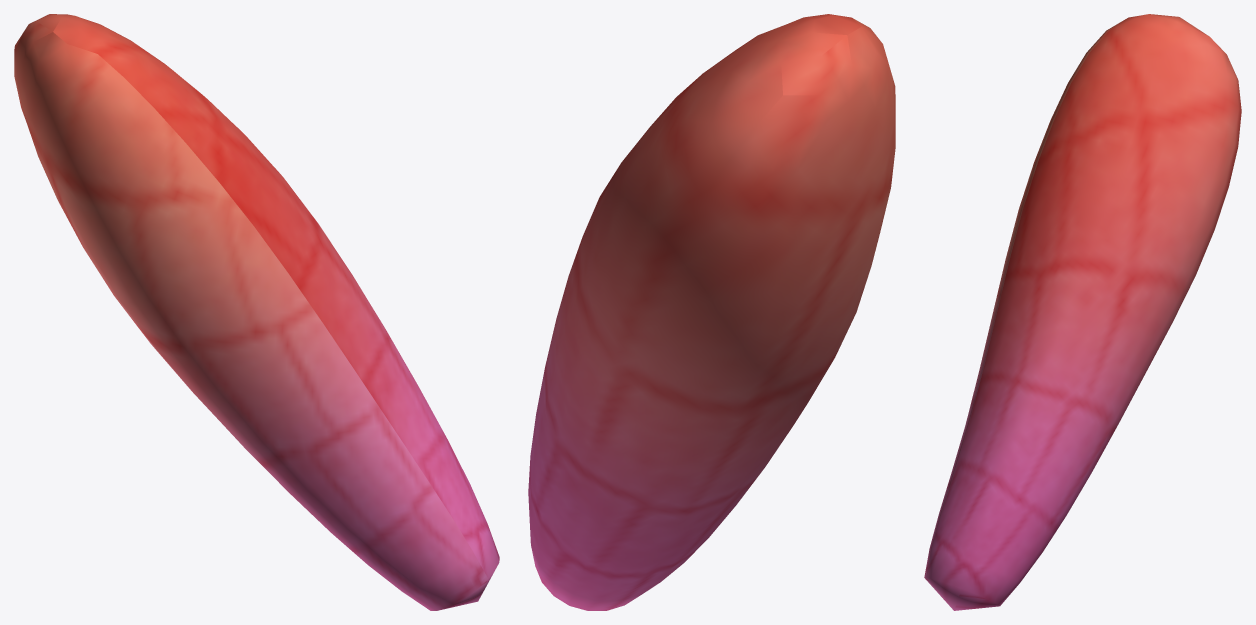
Rendered from bras_droit.fbx.
3 renders of one model, left to right at view 1: azimuth 30°, elevation 25°; view 2: azimuth 150°, elevation 25°; view 3: azimuth 270°, elevation 25°, orthographic. The views are drawn at different scales.
Parts seen in each view (by area): view 1: pSphere33; view 2: pSphere33; view 3: pSphere33.
Boxes of the visible parts, x1=… form: pSphere33: x1=14, y1=14, x2=499, y2=610; pSphere33: x1=528, y1=14, x2=895, y2=610; pSphere33: x1=924, y1=14, x2=1241, y2=610.
Bounding box in the file's own units: 0.3391 × 0.5247 × 0.3153.
